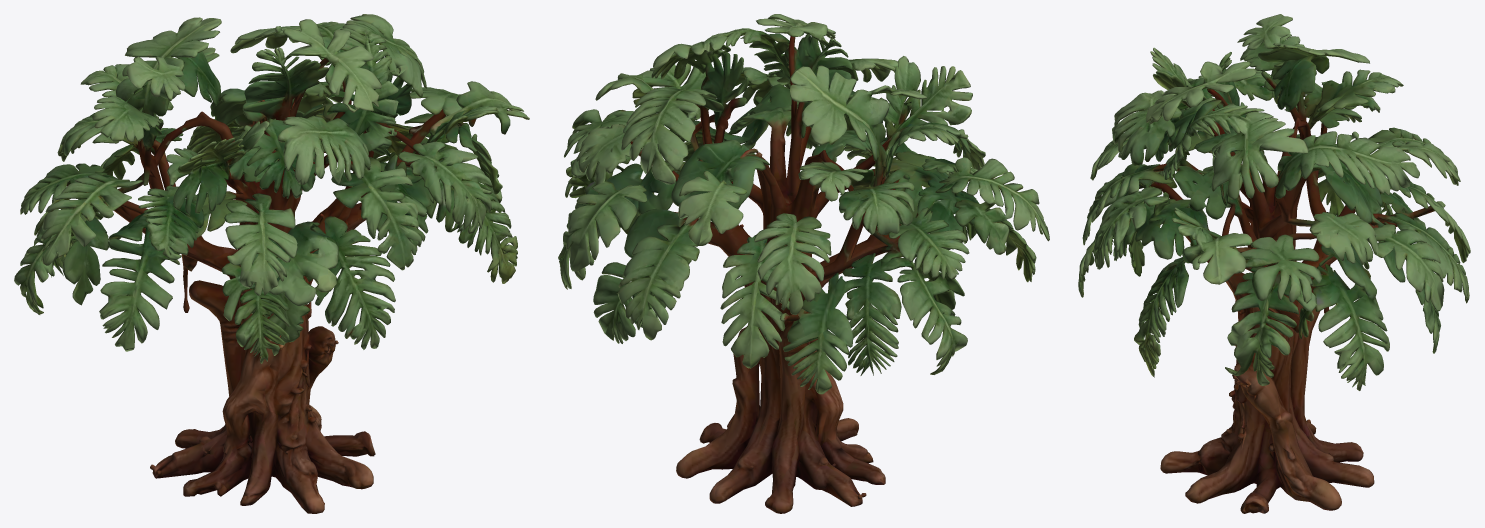
The model's file is tree_1.glb.
3 renders of one model, left to right at view 1: azimuth 30°, elevation 25°; view 2: azimuth 150°, elevation 25°; view 3: azimuth 270°, elevation 25°, orthographic. The views are drawn at different scales.
Visible parts, largest first — view 1: tripo_node_cf3cf185-bafc-4a8f-93ca-356799f528c3; view 2: tripo_node_cf3cf185-bafc-4a8f-93ca-356799f528c3; view 3: tripo_node_cf3cf185-bafc-4a8f-93ca-356799f528c3.
Part boxes in pixels (box(x1,y1,x2,y2)): tripo_node_cf3cf185-bafc-4a8f-93ca-356799f528c3: box(14, 14, 529, 513); tripo_node_cf3cf185-bafc-4a8f-93ca-356799f528c3: box(558, 14, 1049, 513); tripo_node_cf3cf185-bafc-4a8f-93ca-356799f528c3: box(1078, 14, 1470, 513).
Bounding box in the file's own units: 0.9784 × 0.8804 × 0.7483.
Materials: 1 (1 with a texture image).
